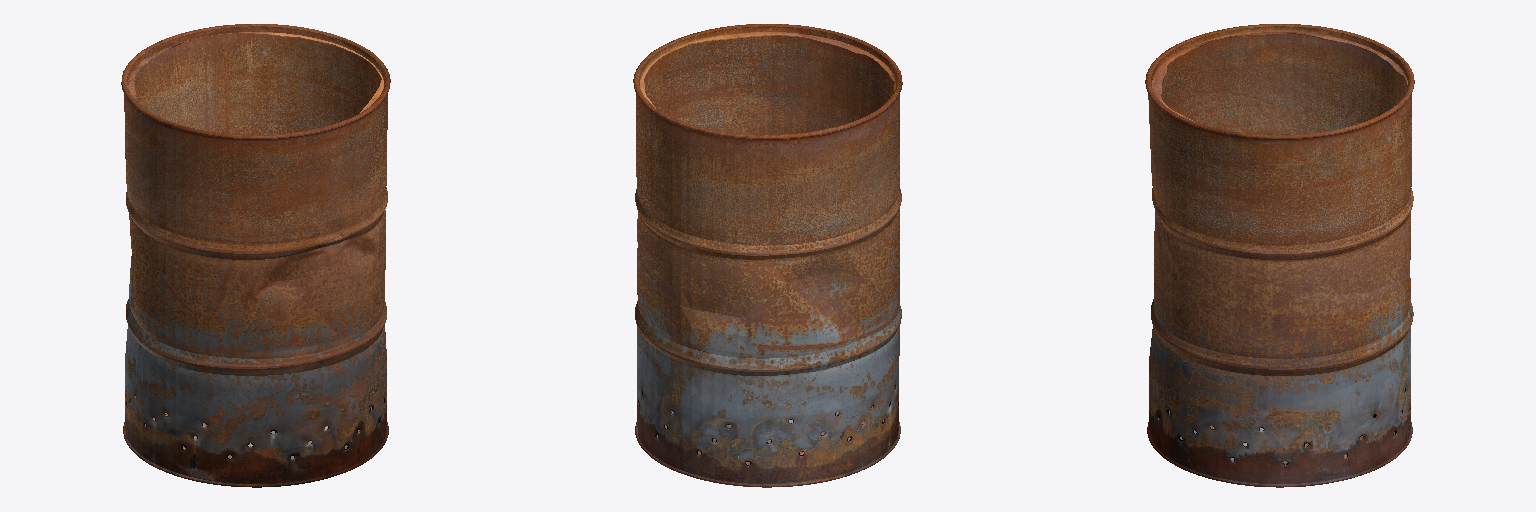
3 views of the same model, side by side, from view 1: azimuth 30°, elevation 25°; view 2: azimuth 150°, elevation 25°; view 3: azimuth 270°, elevation 25° (orthographic).
Visible parts, largest first — view 1: barrel_stove_Cylinder.007; view 2: barrel_stove_Cylinder.007; view 3: barrel_stove_Cylinder.007.
Part boxes in pixels (x1,y1,x2,y2): barrel_stove_Cylinder.007: (121, 24, 390, 487); barrel_stove_Cylinder.007: (633, 24, 902, 487); barrel_stove_Cylinder.007: (1145, 24, 1414, 487).
Bounding box in the file's own units: 1.19 × 1.71 × 1.19.
Materials: 1 (1 with a texture image).